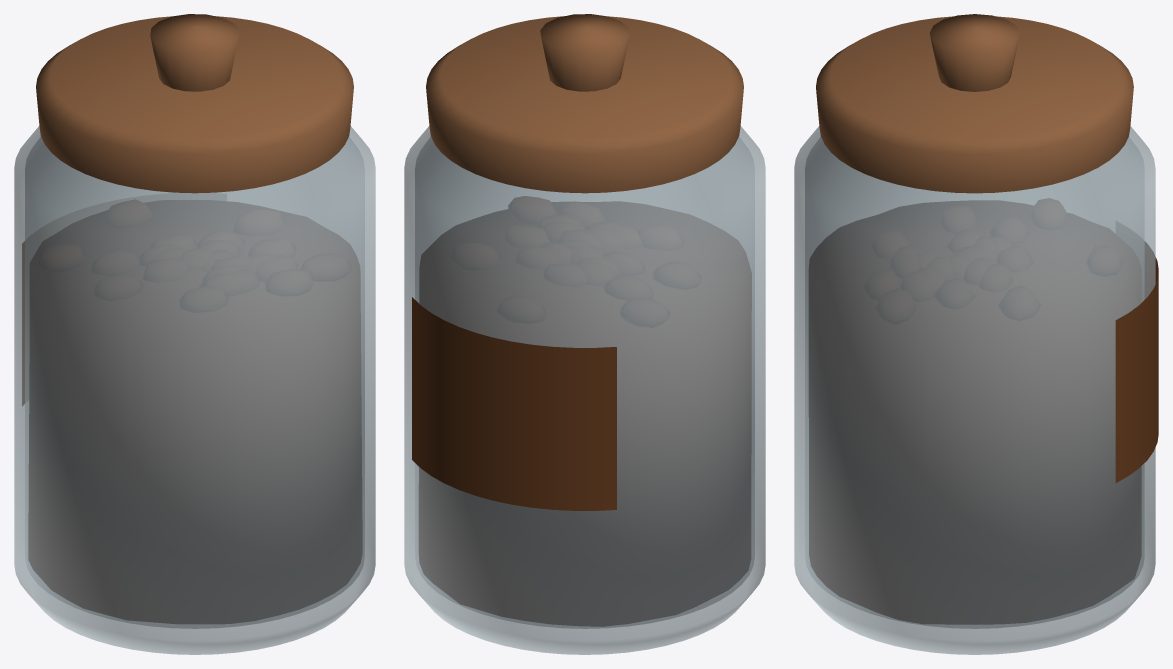
Rendered from props-coffeejar.glb.
3 views of the same model, side by side, from view 1: azimuth 30°, elevation 25°; view 2: azimuth 150°, elevation 25°; view 3: azimuth 270°, elevation 25° (orthographic).
Parts seen in each view (by area): view 1: CoffeeJar__Glass, CoffeeJar__Contents, CoffeeJar__Lid; view 2: CoffeeJar__Glass, CoffeeJar__Contents, CoffeeJar__Lid, CoffeeJar__Label; view 3: CoffeeJar__Glass, CoffeeJar__Contents, CoffeeJar__Lid, CoffeeJar__Label.
Boxes of the visible parts, box(x1,y1,x2,y2) form: CoffeeJar__Glass: box(14, 126, 375, 654); CoffeeJar__Contents: box(28, 199, 362, 623); CoffeeJar__Lid: box(36, 14, 353, 193); CoffeeJar__Glass: box(404, 126, 765, 654); CoffeeJar__Contents: box(419, 196, 751, 626); CoffeeJar__Lid: box(426, 14, 743, 193); CoffeeJar__Label: box(412, 297, 616, 510); CoffeeJar__Glass: box(794, 126, 1155, 654); CoffeeJar__Contents: box(809, 198, 1141, 624); CoffeeJar__Lid: box(816, 14, 1133, 193); CoffeeJar__Label: box(1115, 241, 1158, 482).
Bounding box in the file's own units: 9 × 15.4 × 9.08.
